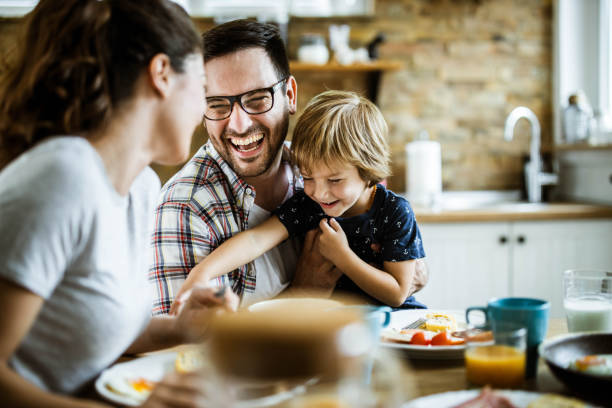without mask: (189, 46, 290, 182), (109, 30, 210, 166), (285, 121, 383, 230)
